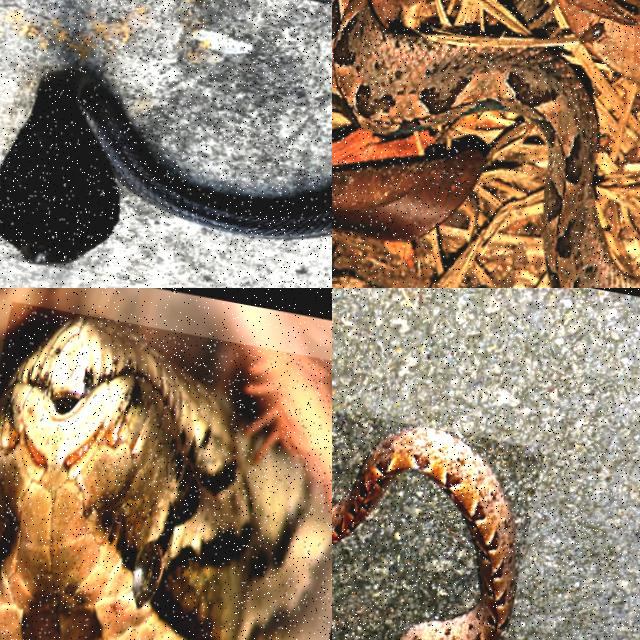Calloselasma rhodostoma: (332, 0, 639, 287), (332, 426, 516, 639)
Naja siamensis: (0, 70, 331, 264)
Python bivittatus: (0, 316, 331, 639)
